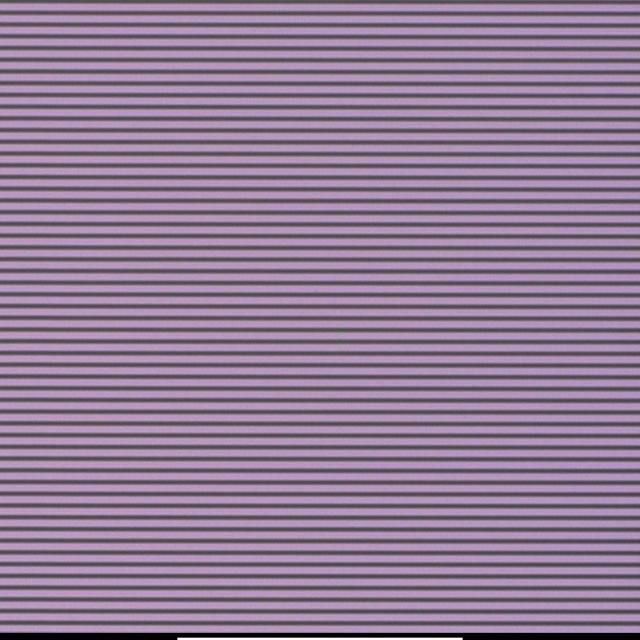nonvisual: (336, 332, 345, 341)
